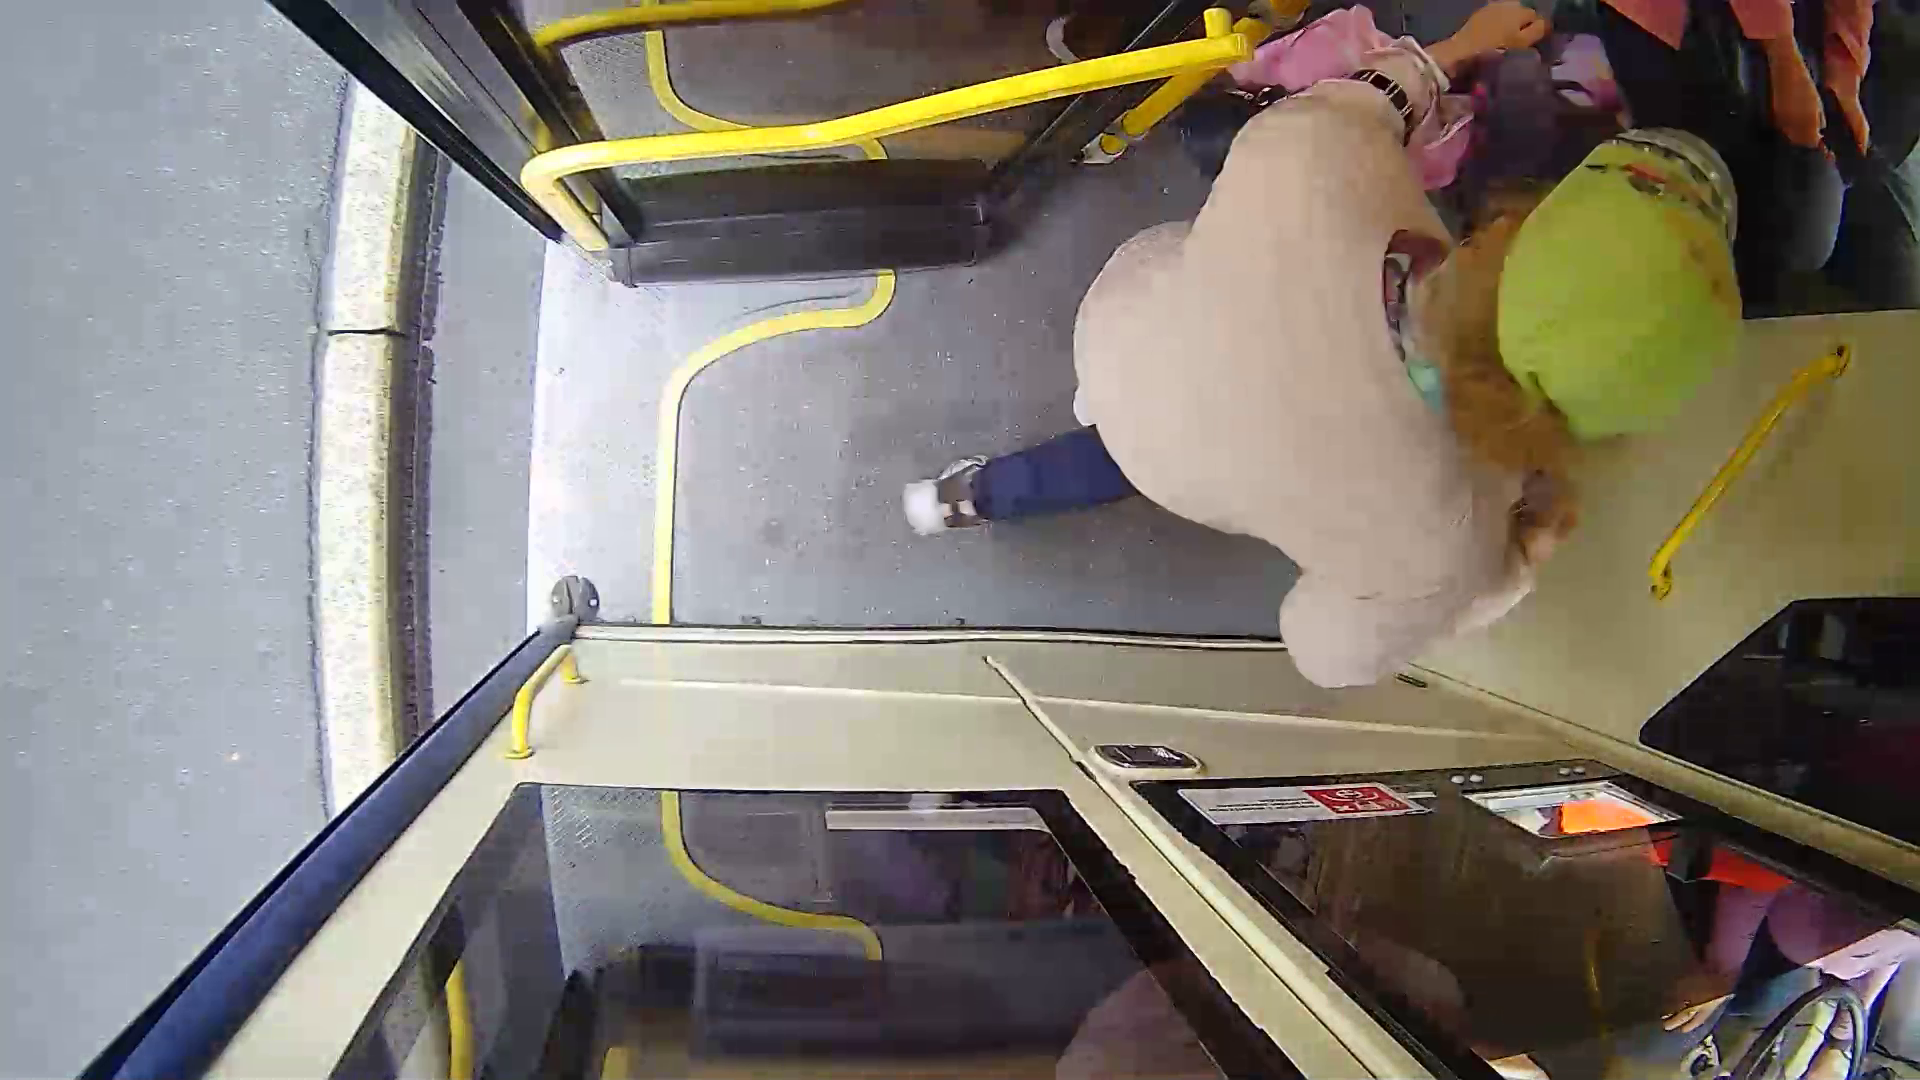person: (882, 61, 1765, 647)
